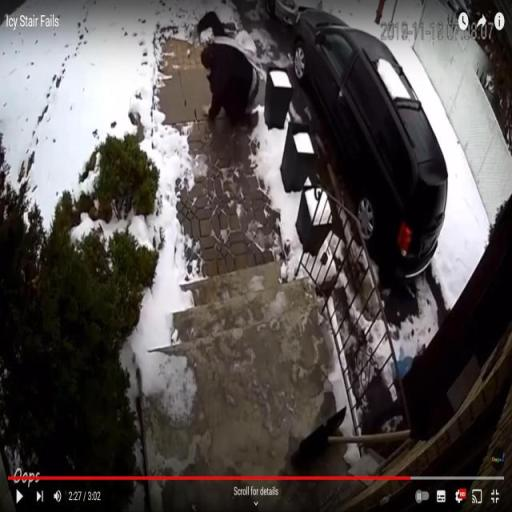Fall: (198, 32, 264, 133)
